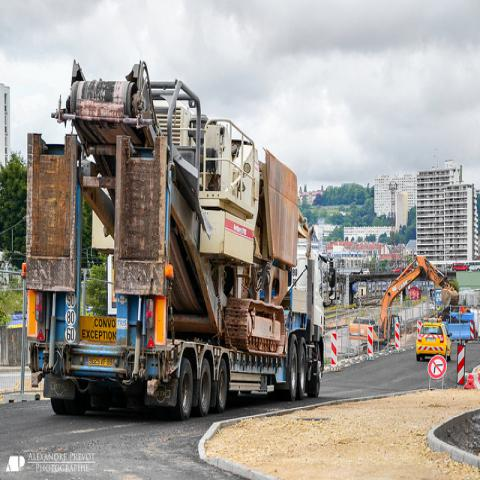car: (416, 316, 452, 364), (349, 317, 378, 342)
truck: (24, 65, 324, 429)
